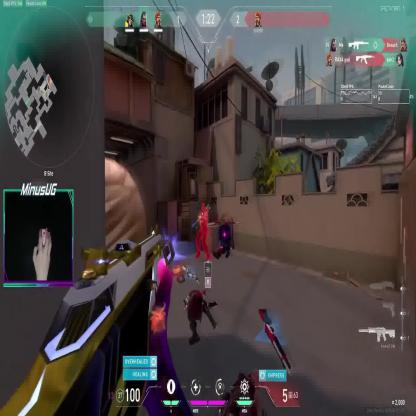enemy: (195, 202, 211, 261)
enemy_head: (201, 202, 205, 210)
